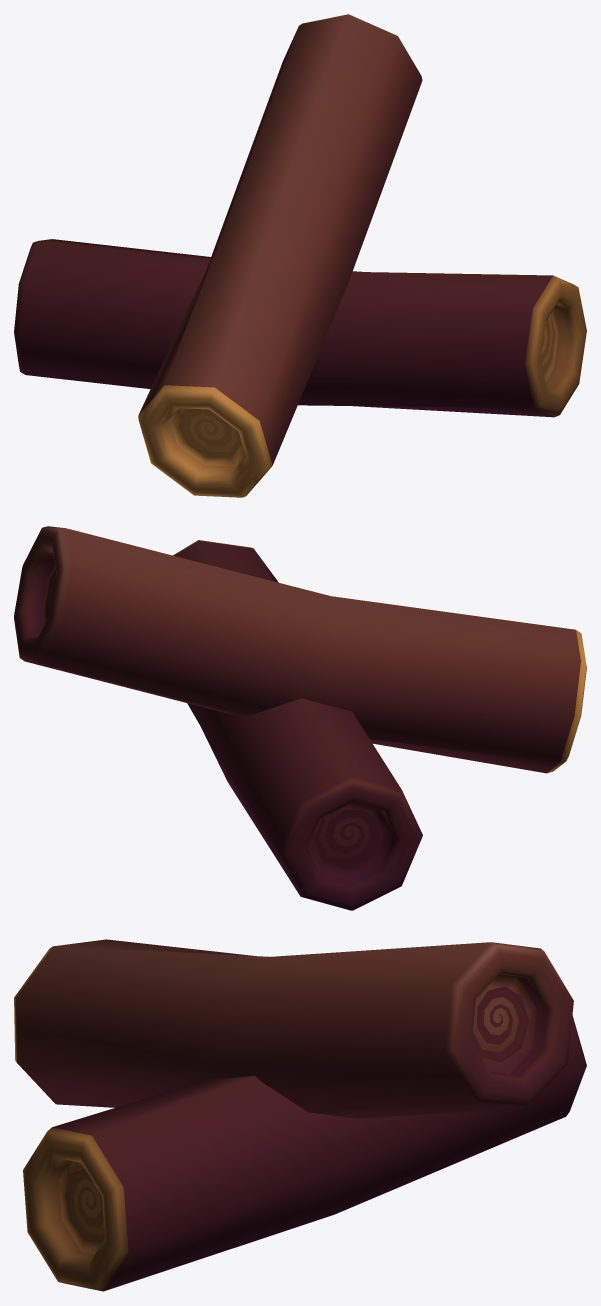
The model's file is SM_campfire_004.fbx.
The picture shows the model from 3 angles, top to bottom: view 1: azimuth 30°, elevation 25°; view 2: azimuth 150°, elevation 25°; view 3: azimuth 270°, elevation 25°; orthographic projection. The views are drawn at different scales.
Visible parts, largest first — view 1: SM_campfire_004; view 2: SM_campfire_004; view 3: SM_campfire_004.
Part boxes in pixels (bbox=[...]): SM_campfire_004: bbox=[14, 14, 586, 497]; SM_campfire_004: bbox=[14, 526, 586, 910]; SM_campfire_004: bbox=[14, 939, 586, 1291].
Size of the model in its own units: 69.29 by 44.32 by 65.9.
